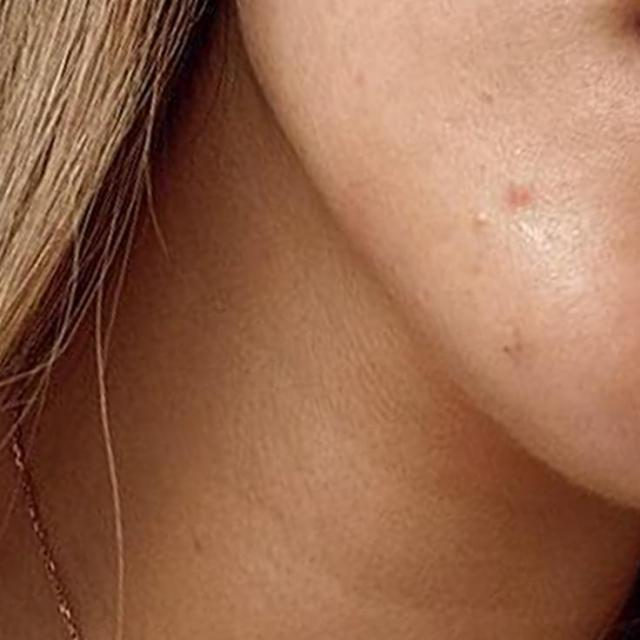Pimples: (505, 167, 537, 204), (492, 321, 521, 358), (349, 64, 372, 98), (474, 206, 494, 233)
